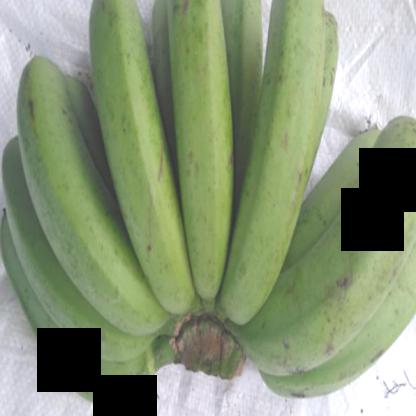unripe: (88, 1, 193, 323), (231, 1, 336, 318), (306, 101, 416, 378), (159, 1, 240, 300), (8, 48, 111, 280)
